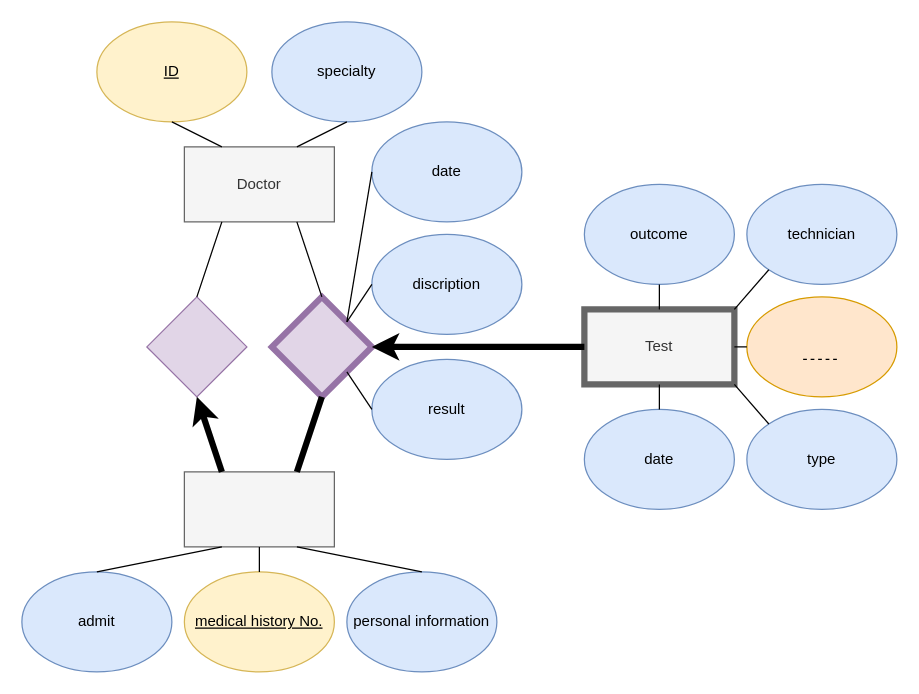
The diagram is 919 pixels wide and 694 high, and some of its shapes have lost their labels. The centre of each missing label's shape, as x and y in pixels:
"examine" belongs at [196,346].
"No" belongs at [821,346].
"Patient" belongs at [258,509].
"treat" belongs at [321,346].
